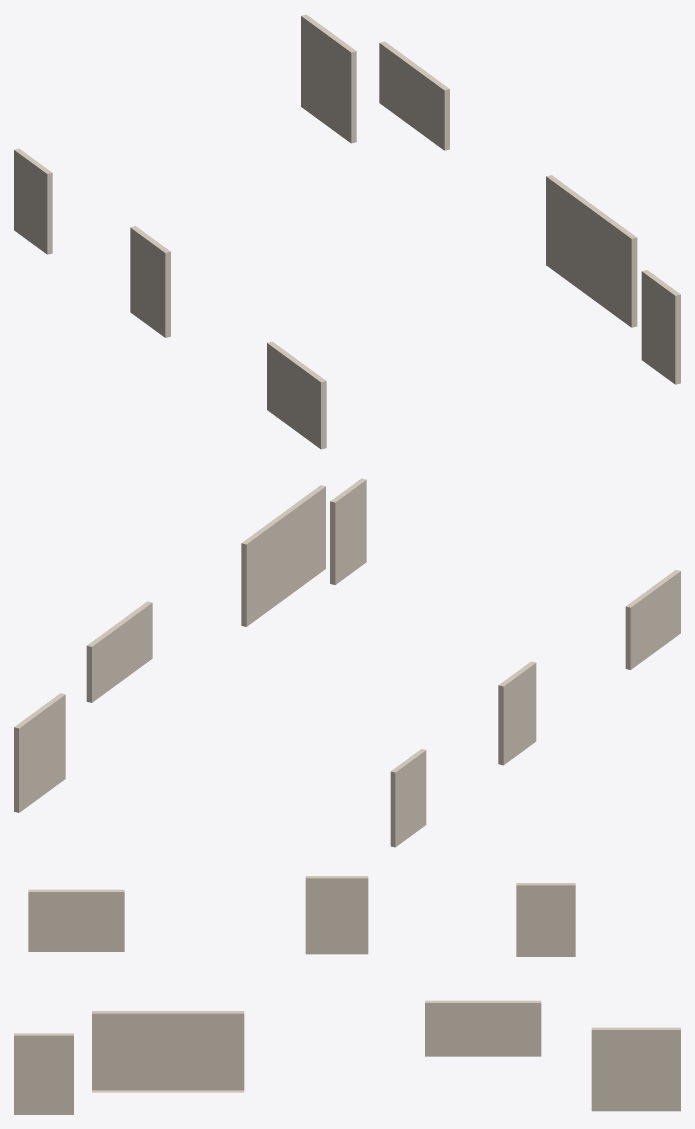
File: Posters.fbx
3 renders of one model, top to bottom at view 1: azimuth 30°, elevation 25°; view 2: azimuth 150°, elevation 25°; view 3: azimuth 270°, elevation 25°, orthographic. The views are drawn at different scales.
Parts seen in each view (by area): view 1: Poster2, Poster1, Poster7, Poster4, Poster3, Poster5, Poster6; view 2: Poster2, Poster1, Poster7, Poster4, Poster5, Poster3, Poster6; view 3: Poster2, Poster1, Poster7, Poster4, Poster5, Poster3, Poster6.
Part boxes in pixels (bbox=[...]): Poster2: bbox=[546, 175, 637, 327]; Poster1: bbox=[301, 14, 356, 143]; Poster7: bbox=[379, 41, 449, 150]; Poster4: bbox=[267, 341, 326, 449]; Poster3: bbox=[641, 270, 680, 384]; Poster5: bbox=[130, 226, 170, 337]; Poster6: bbox=[14, 148, 52, 254]; Poster2: bbox=[241, 485, 325, 626]; Poster1: bbox=[14, 693, 65, 812]; Poster7: bbox=[86, 601, 152, 702]; Poster4: bbox=[625, 570, 680, 669]; Poster5: bbox=[498, 661, 536, 765]; Poster3: bbox=[330, 478, 366, 584]; Poster6: bbox=[390, 749, 426, 847]; Poster2: bbox=[92, 1011, 244, 1092]; Poster1: bbox=[591, 1027, 680, 1111]; Poster7: bbox=[425, 1000, 541, 1056]; Poster4: bbox=[28, 889, 124, 951]; Poster5: bbox=[305, 876, 368, 954]; Poster3: bbox=[14, 1033, 73, 1114]; Poster6: bbox=[516, 883, 575, 956].
Bounding box in the file's own units: 4.05 × 1.38 × 7.45.
